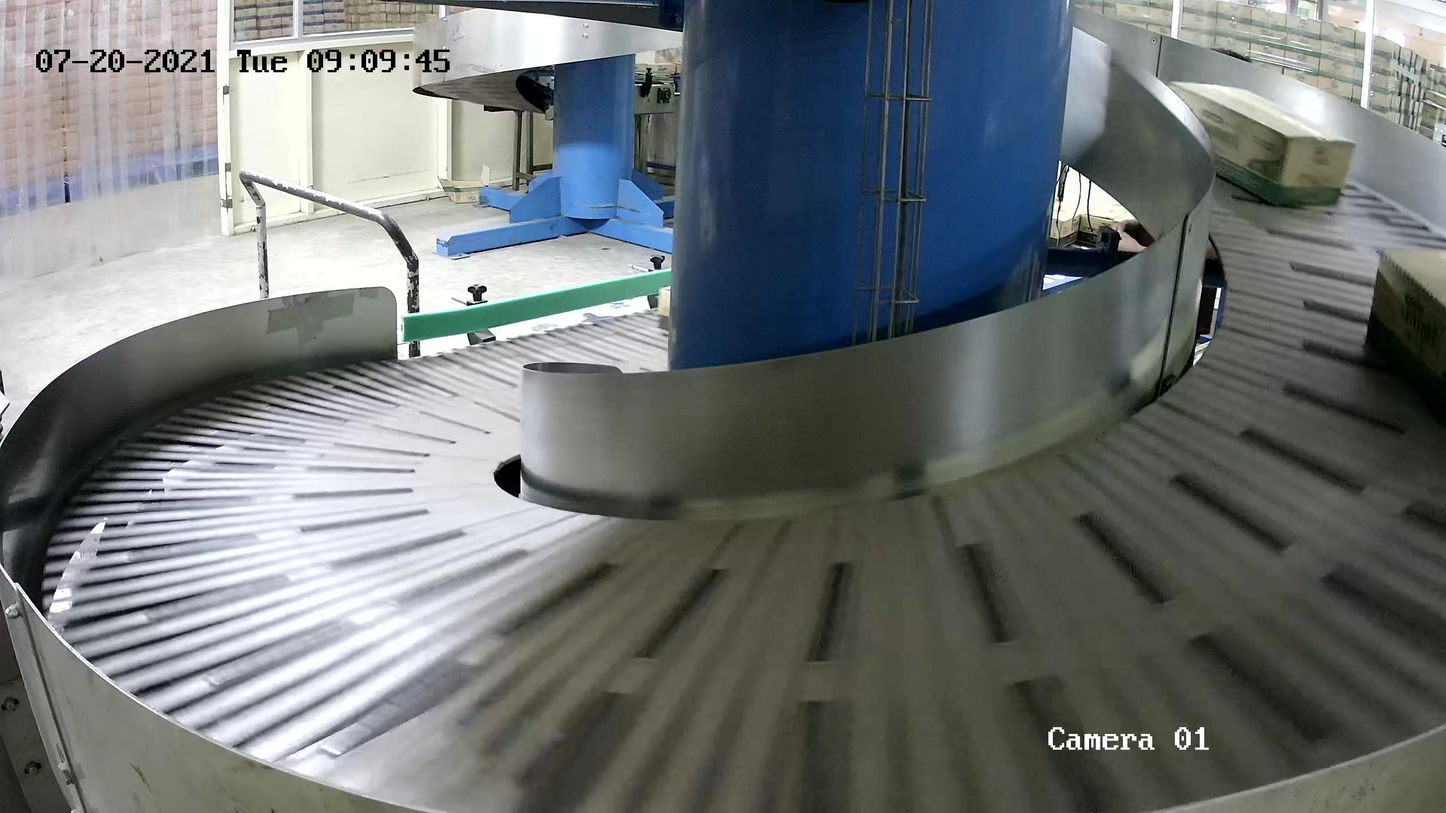Box: (1164, 79, 1355, 210), (1363, 247, 1446, 430)
